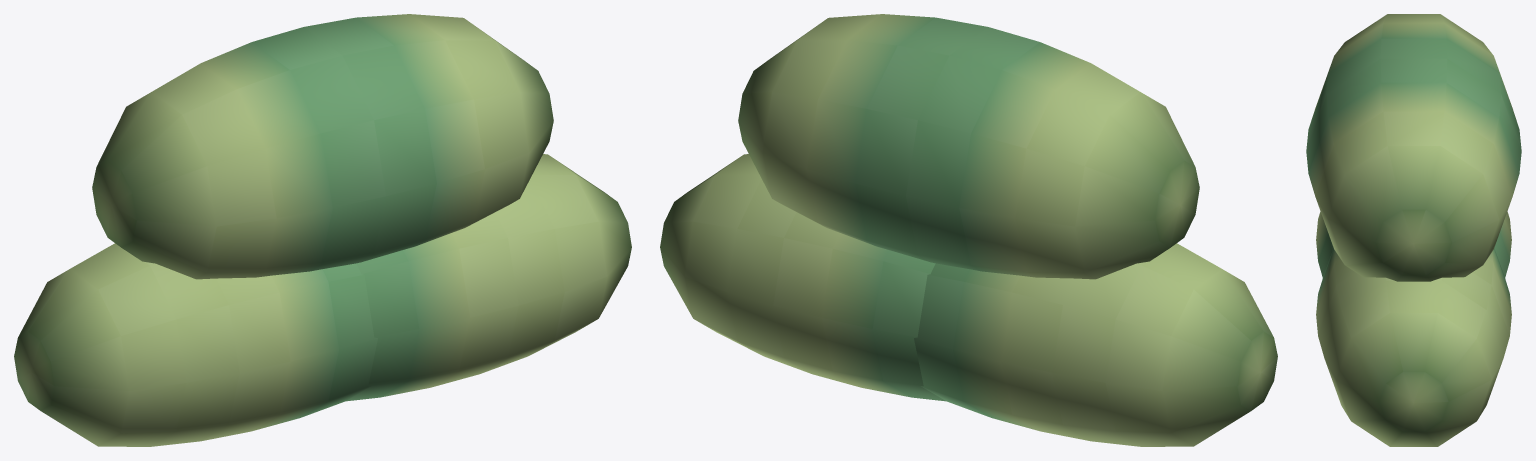
File: Root_Wood.glb
3 views of the same model, side by side, from view 1: azimuth 30°, elevation 25°; view 2: azimuth 150°, elevation 25°; view 3: azimuth 270°, elevation 25° (orthographic). The views are drawn at different scales.
Visible parts, largest first — view 1: RootStack; view 2: RootStack; view 3: RootStack.
Boxes of the visible parts, x1,y1,x2,y2 form: RootStack: (14,14,631,446); RootStack: (660,14,1277,446); RootStack: (1306,14,1521,446).
Size of the model in its own units: 0.91 by 0.5296 by 0.341.
